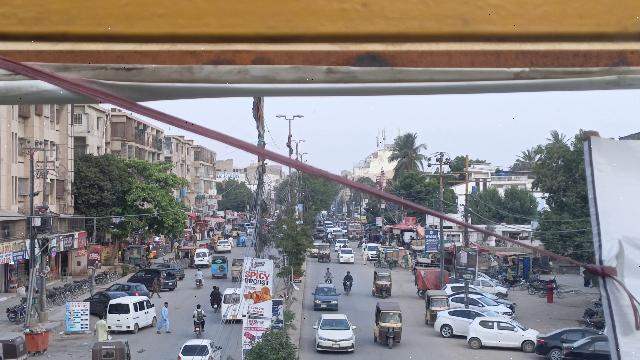Bike: (192, 321, 204, 339), (210, 298, 222, 315), (342, 279, 352, 296), (194, 279, 203, 290), (324, 276, 334, 283)
Car: (466, 315, 536, 353), (312, 313, 357, 355), (448, 293, 513, 317), (537, 327, 584, 360), (434, 306, 479, 338), (562, 335, 615, 360), (129, 268, 179, 291), (175, 337, 222, 360), (310, 283, 340, 312), (83, 291, 114, 316)
Person: (92, 312, 111, 343), (156, 299, 171, 336), (207, 284, 222, 304), (191, 304, 206, 323), (341, 268, 355, 283), (323, 265, 335, 279), (193, 267, 204, 280)
Rickshaw: (373, 301, 403, 349), (422, 288, 448, 327), (91, 340, 131, 360), (371, 268, 393, 299), (210, 255, 229, 279), (230, 257, 244, 282)
Van: (106, 295, 156, 333), (221, 285, 244, 323)
